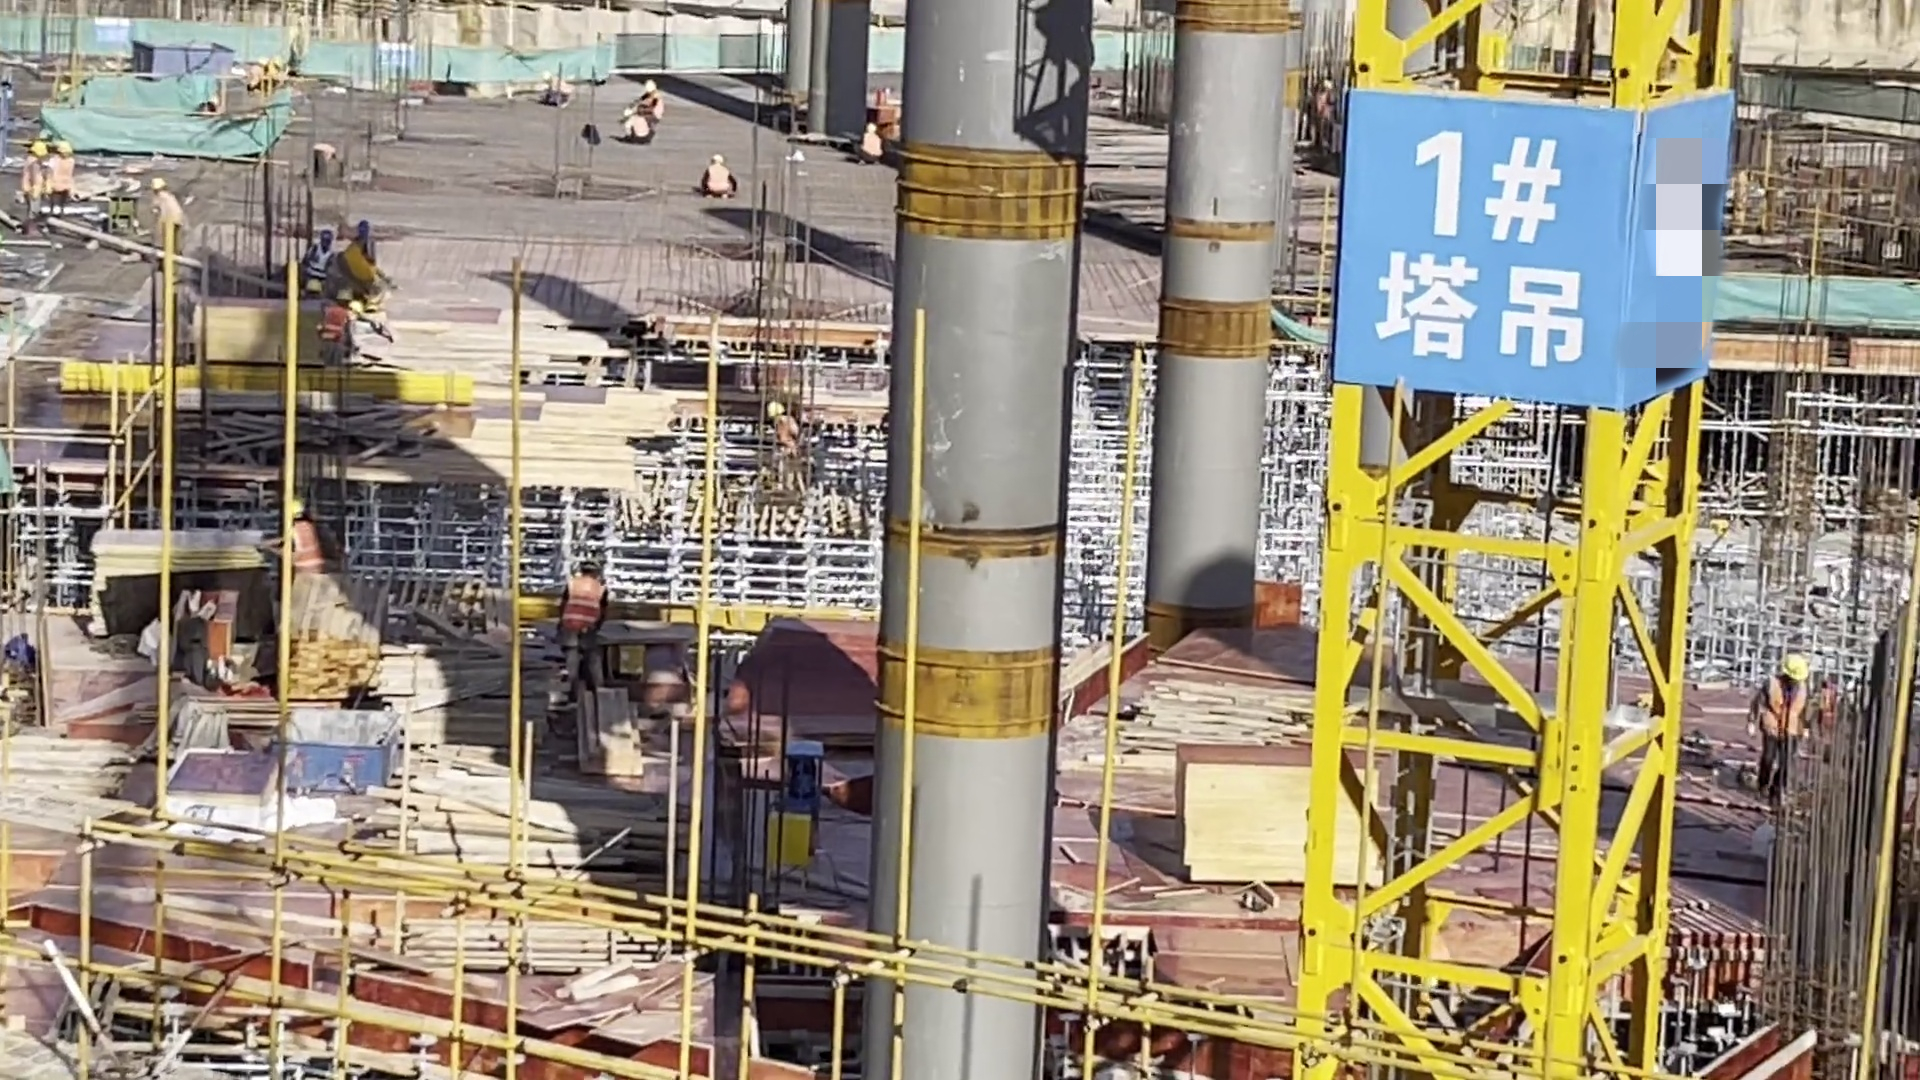helmet: (576, 554, 602, 579), (765, 401, 792, 423), (54, 140, 77, 164), (290, 496, 309, 522), (150, 174, 170, 197), (642, 75, 659, 97), (27, 140, 45, 160)
person: (1744, 651, 1812, 812), (558, 543, 620, 713), (290, 494, 335, 604), (20, 133, 55, 241), (45, 136, 87, 216), (765, 397, 805, 480), (301, 225, 340, 305), (150, 170, 181, 259), (695, 151, 744, 203), (291, 130, 344, 177), (616, 105, 656, 147), (859, 119, 887, 172), (641, 77, 670, 119)
vest: (557, 578, 607, 650), (1762, 678, 1808, 742), (292, 524, 327, 582), (320, 306, 350, 347), (304, 242, 334, 282), (705, 164, 736, 200), (24, 155, 47, 202), (51, 155, 77, 191)
